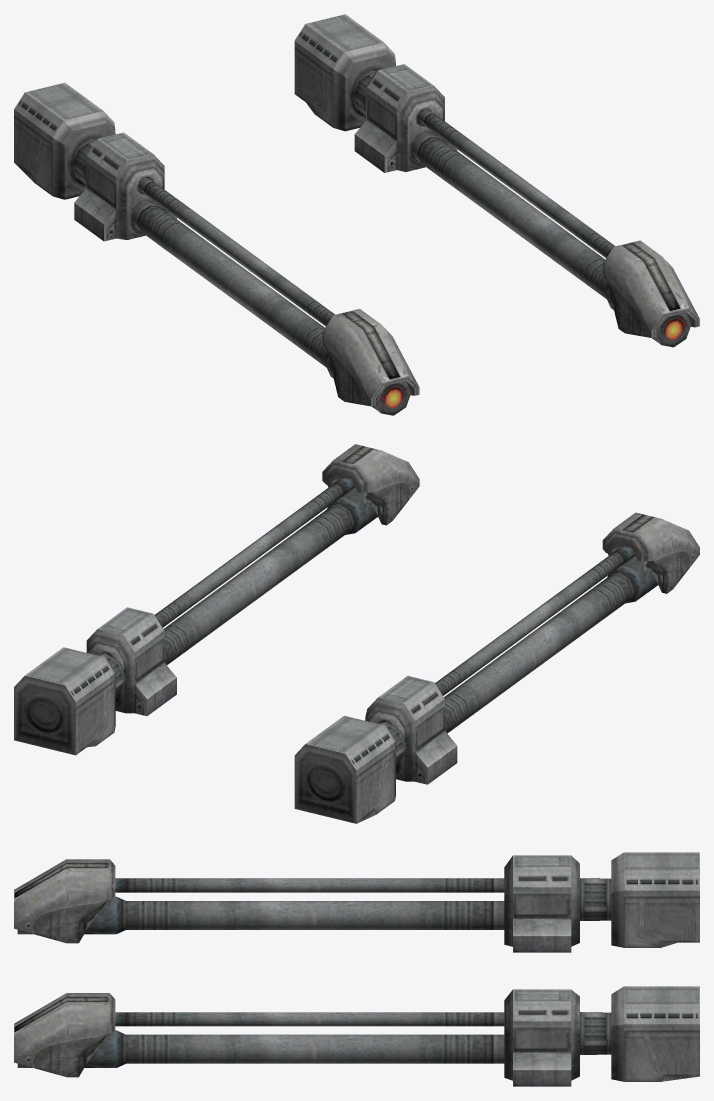
File: bwing_weapon1_s06_l0.fbx
3 views of the same model, one above another, from view 1: azimuth 30°, elevation 25°; view 2: azimuth 150°, elevation 25°; view 3: azimuth 270°, elevation 25° (orthographic). The views are drawn at different scales.
Visible parts, largest first — view 1: mesh_node; view 2: mesh_node; view 3: mesh_node.
Part boxes in pixels (x1=…): mesh_node: x1=14, y1=14, x2=699, y2=415; mesh_node: x1=14, y1=444, x2=699, y2=823; mesh_node: x1=14, y1=852, x2=699, y2=1086.
Size of the model in its own units: 0.8403 by 0.1709 by 1.44.
